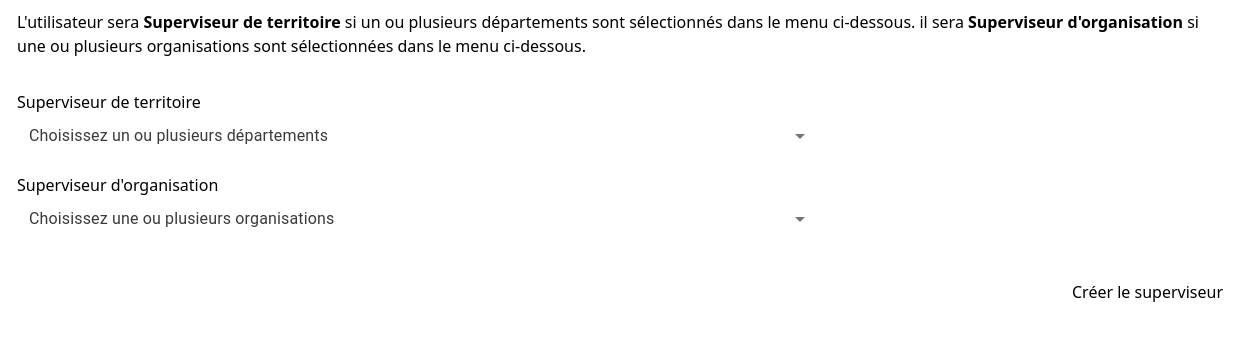
Test: CreateSupervisorContent › should display area options in territory autocomplete
Click the dropdown with placeholder "Choisissez un ou plusieurs départements" at (404, 136), box [25,114,782,157]
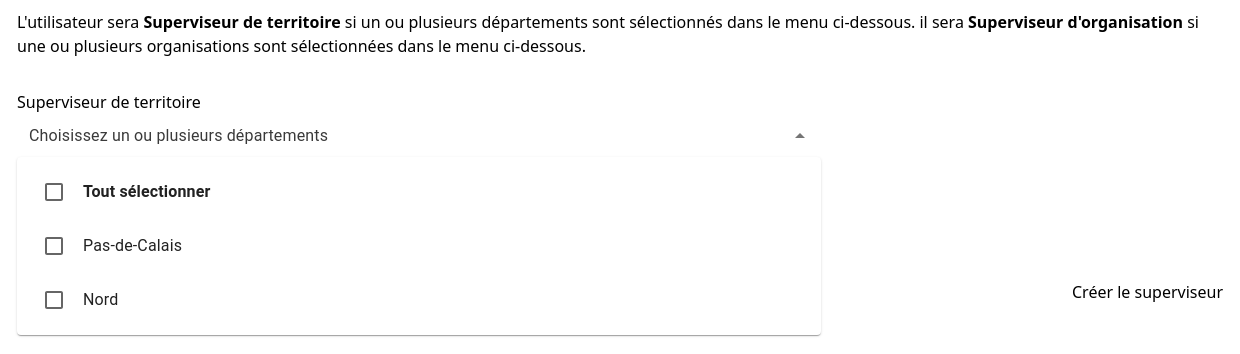
Now the option "Pas-de-Calais" is shown, box [42,234,182,258]
Now the option "Nord" is shown, box [42,288,118,312]
